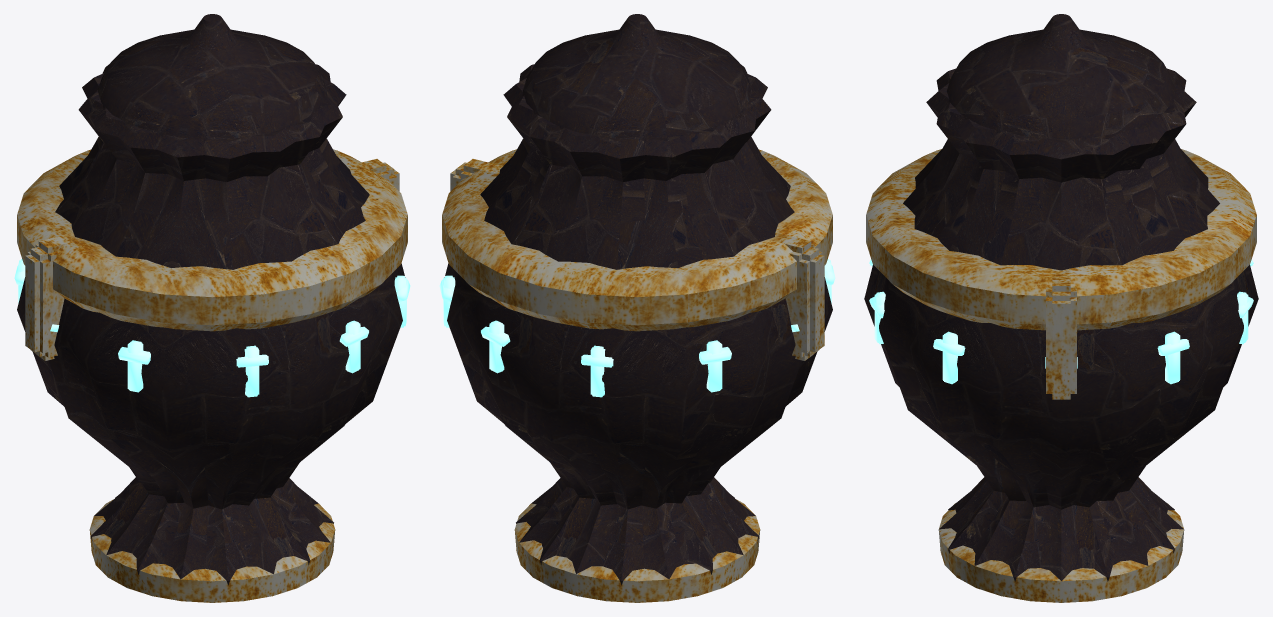
Rendered from prop_urn_intact.glb.
3 renders of one model, left to right at view 1: azimuth 30°, elevation 25°; view 2: azimuth 150°, elevation 25°; view 3: azimuth 270°, elevation 25°, orthographic.
Parts seen in each view (by area): view 1: UrnBody, UrnIronFittings, UrnRunes; view 2: UrnBody, UrnIronFittings, UrnRunes; view 3: UrnBody, UrnIronFittings, UrnRunes.
Part boxes in pixels (left/top/right/bottom): UrnBody: left=17, top=14, right=405, bottom=585; UrnIronFittings: left=17, top=149, right=407, bottom=602; UrnRunes: left=14, top=259, right=410, bottom=397; UrnBody: left=444, top=14, right=832, bottom=585; UrnIronFittings: left=442, top=149, right=832, bottom=602; UrnRunes: left=439, top=259, right=835, bottom=397; UrnBody: left=864, top=14, right=1258, bottom=581; UrnIronFittings: left=866, top=149, right=1256, bottom=602; UrnRunes: left=869, top=259, right=1253, bottom=384.
Bounding box in the file's own units: 0.68 × 0.95 × 0.636.
3 materials, 2 textured.
